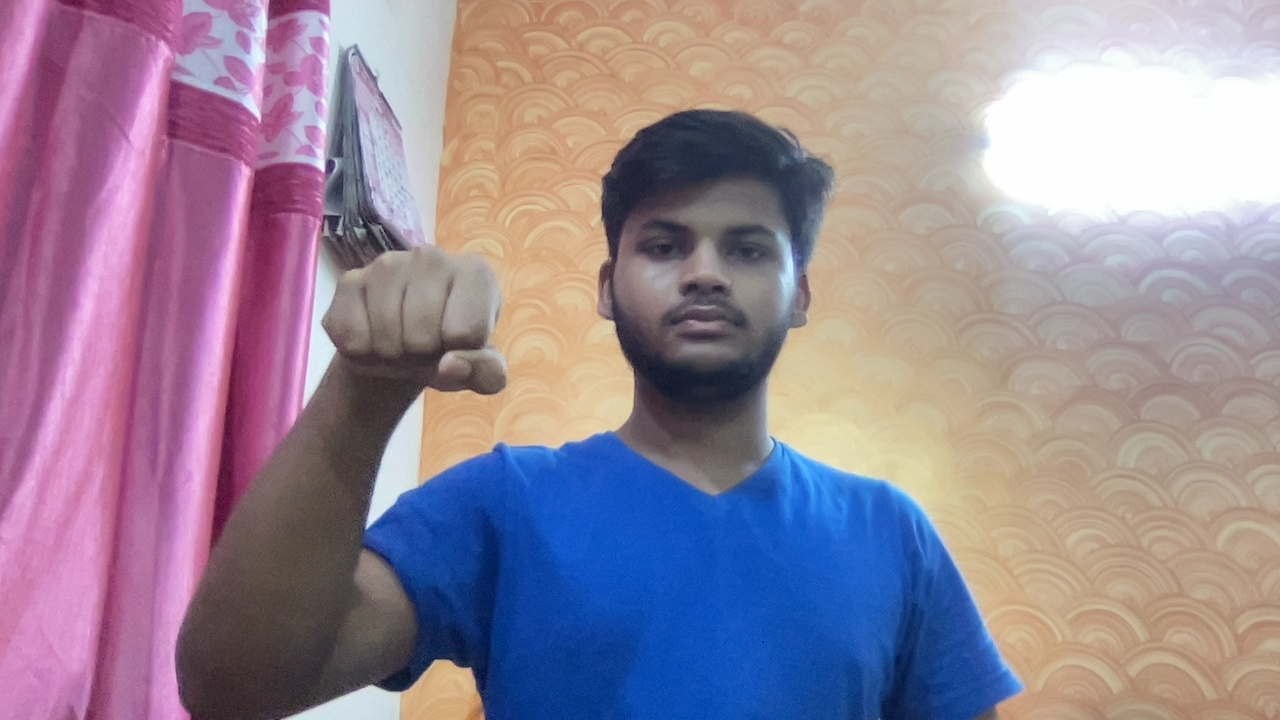yes: (292, 228, 538, 443)
